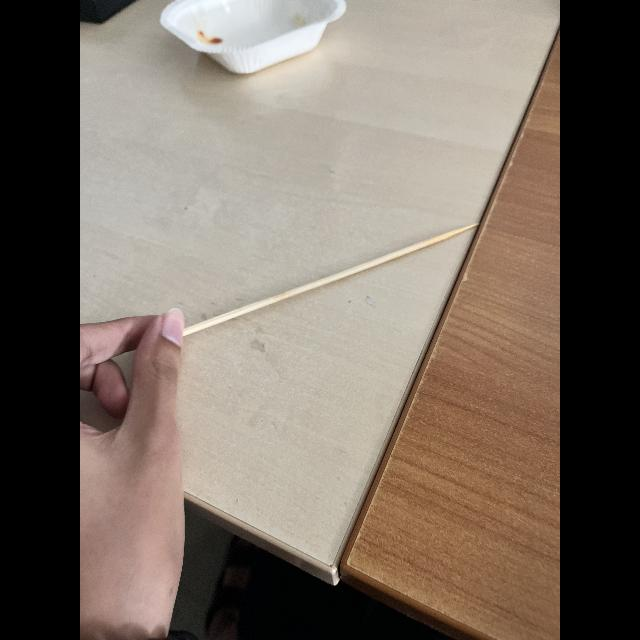cardboard_bowl: (134, 0, 376, 92)
stick: (126, 200, 487, 390)
